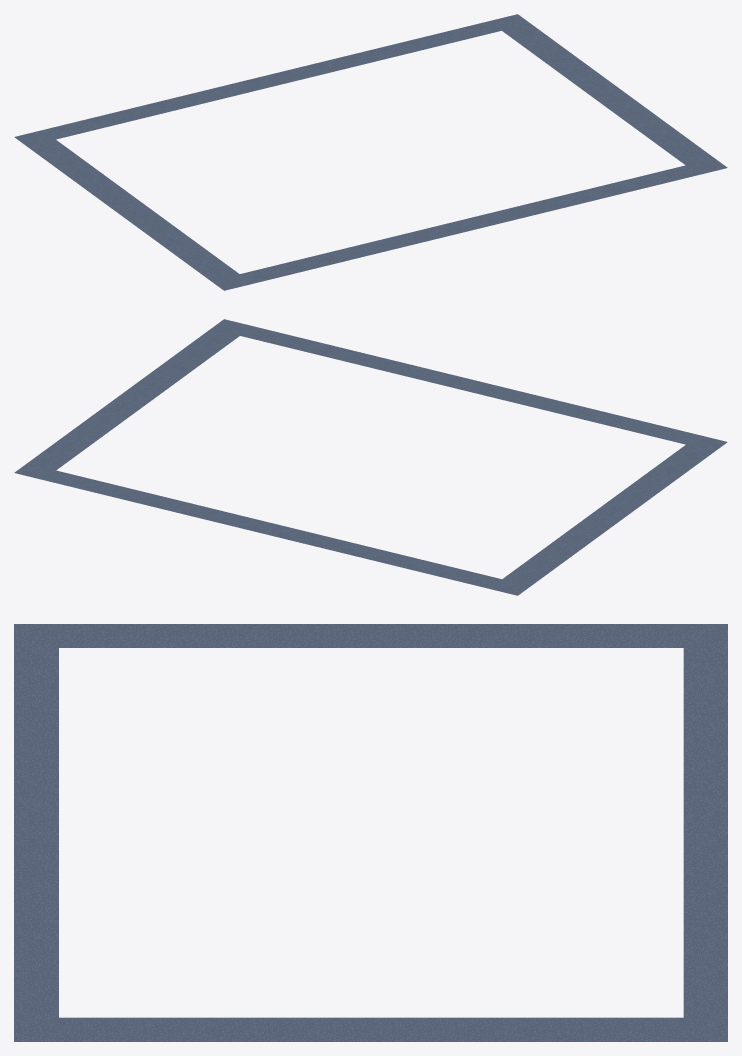
File: kd_stage_135ded_4_43_exterior.glb
3 renders of one model, top to bottom at view 1: azimuth 30°, elevation 25°; view 2: azimuth 150°, elevation 25°; view 3: azimuth 270°, elevation 25°, orthographic. The views are drawn at different scales.
Visible parts, largest first — view 1: kd_stage_135ded_4_43_exterior; view 2: kd_stage_135ded_4_43_exterior; view 3: kd_stage_135ded_4_43_exterior.
Boxes of the visible parts, box(x1,y1,x2,y2) form: kd_stage_135ded_4_43_exterior: box(14, 14, 727, 290); kd_stage_135ded_4_43_exterior: box(14, 319, 727, 595); kd_stage_135ded_4_43_exterior: box(14, 624, 727, 1041).
Size of the model in its own units: 3.97 by 0.000153 by 2.87.
Materials: 1 (1 with a texture image).
